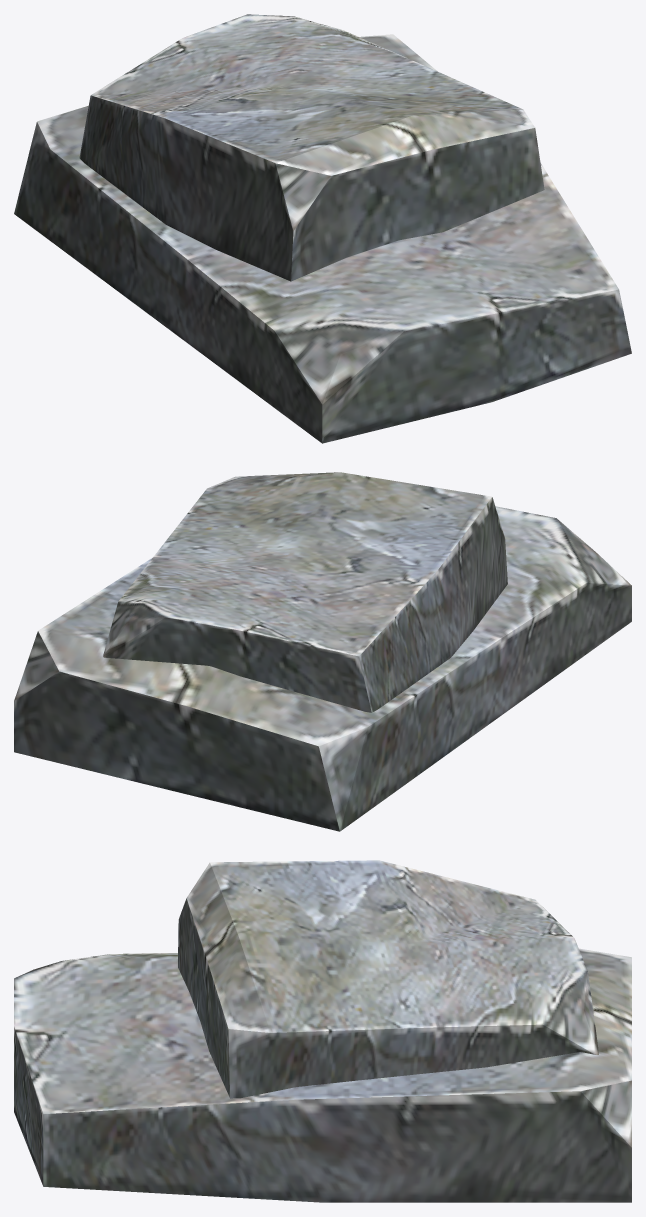
File: QU_bigstone01_b.FBX
3 renders of one model, top to bottom at view 1: azimuth 30°, elevation 25°; view 2: azimuth 150°, elevation 25°; view 3: azimuth 270°, elevation 25°, orthographic. The views are drawn at different scales.
Visible parts, largest first — view 1: QU_bigstone01_b; view 2: QU_bigstone01_b; view 3: QU_bigstone01_b.
Part boxes in pixels (box(x1,y1,x2,y2)): QU_bigstone01_b: box(14, 14, 631, 443); QU_bigstone01_b: box(14, 472, 631, 831); QU_bigstone01_b: box(14, 860, 631, 1202).
Bounding box in the file's own units: 201 × 105 × 304.
